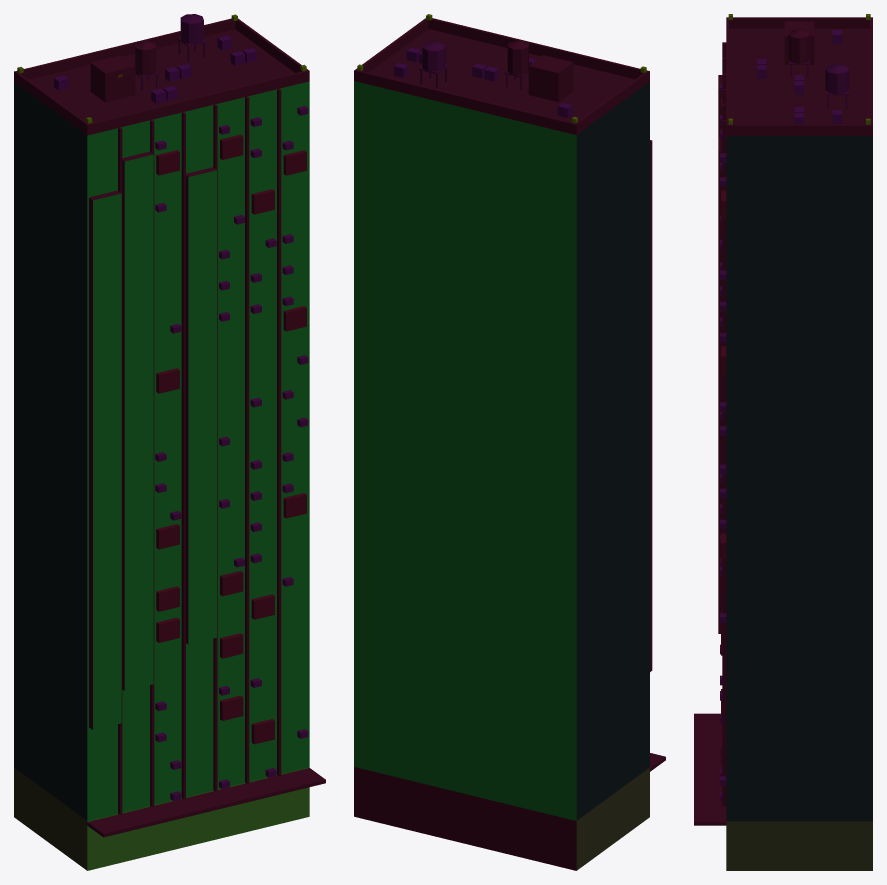
The model's file is slab_d.lod1.glb.
3 views of the same model, side by side, from view 1: azimuth 30°, elevation 25°; view 2: azimuth 150°, elevation 25°; view 3: azimuth 270°, elevation 25° (orthographic).
Visible parts, largest first — view 1: slab_d.lod1; view 2: slab_d.lod1; view 3: slab_d.lod1.
Part boxes in pixels (box(x1,y1,x2,y2)): slab_d.lod1: box(14, 14, 325, 870); slab_d.lod1: box(354, 14, 665, 870); slab_d.lod1: box(694, 14, 872, 870).
Size of the model in its own units: 22.4 by 74.96 by 15.6.
